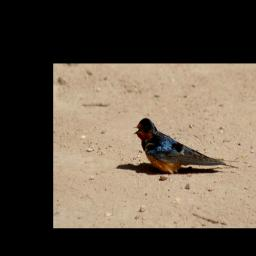Swallow: (133, 117, 239, 172)
